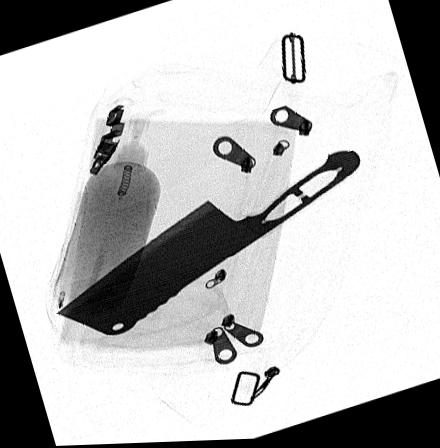Knife: (54, 151, 360, 336)
